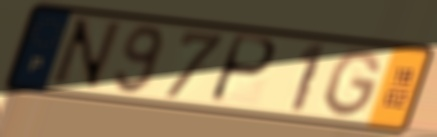1: (288, 42, 329, 116)
7: (160, 29, 227, 100)
9: (113, 23, 167, 97)
G: (322, 46, 385, 120)
N: (45, 16, 126, 92)
P: (205, 33, 280, 107)
